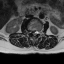CCS_normal: (33, 29, 35, 37)
LFS_normal: (38, 29, 40, 35)
LLS_normal: (35, 29, 38, 36)
RFS_stenosis: (29, 29, 32, 35)
RLS_severe_stenosis: (32, 30, 33, 36)
